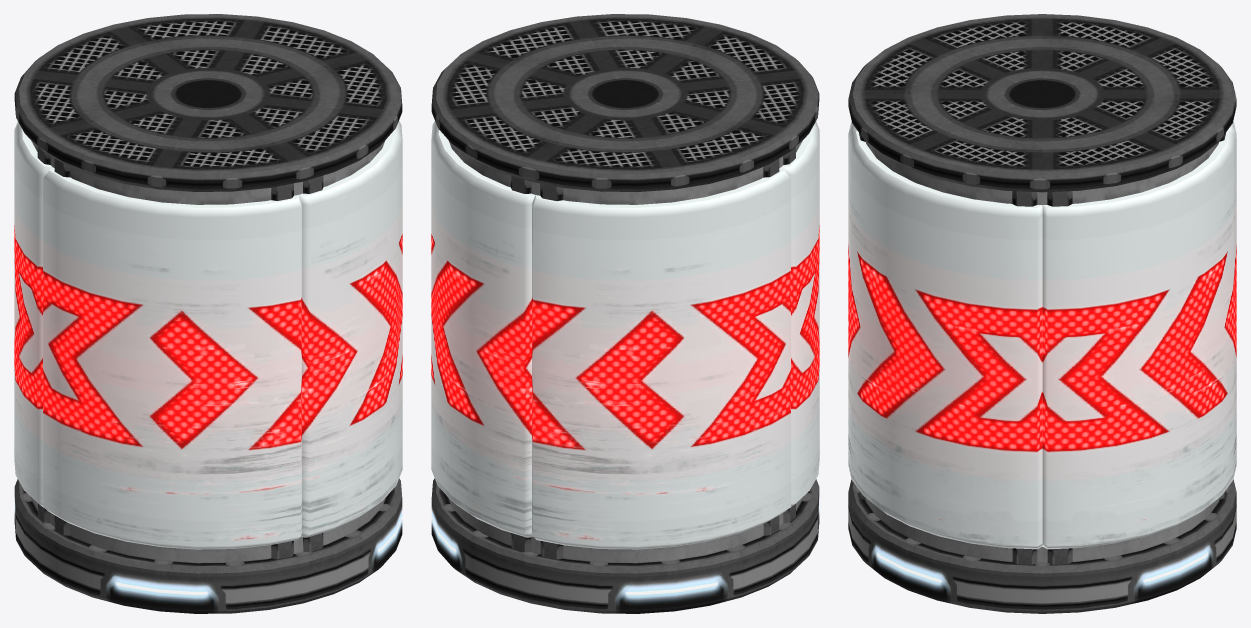
Rendered from obstacle_pillar_red.fbx.
The picture shows the model from 3 angles, left to right: view 1: azimuth 30°, elevation 25°; view 2: azimuth 150°, elevation 25°; view 3: azimuth 270°, elevation 25°; orthographic projection.
Parts seen in each view (by area): view 1: cover, frame, frame_base; view 2: cover, frame, frame_base; view 3: cover, frame, frame_base.
Part boxes in pixels (left/top/right/bottom): cover: left=14, top=121, right=402, bottom=549; frame: left=14, top=14, right=402, bottom=563; frame_base: left=14, top=478, right=402, bottom=613; cover: left=431, top=121, right=819, bottom=549; frame: left=431, top=14, right=819, bottom=563; frame_base: left=431, top=478, right=819, bottom=613; cover: left=848, top=121, right=1236, bottom=549; frame: left=848, top=14, right=1236, bottom=564; frame_base: left=848, top=479, right=1236, bottom=613.
Size of the model in its own units: 320 by 400 by 320.
